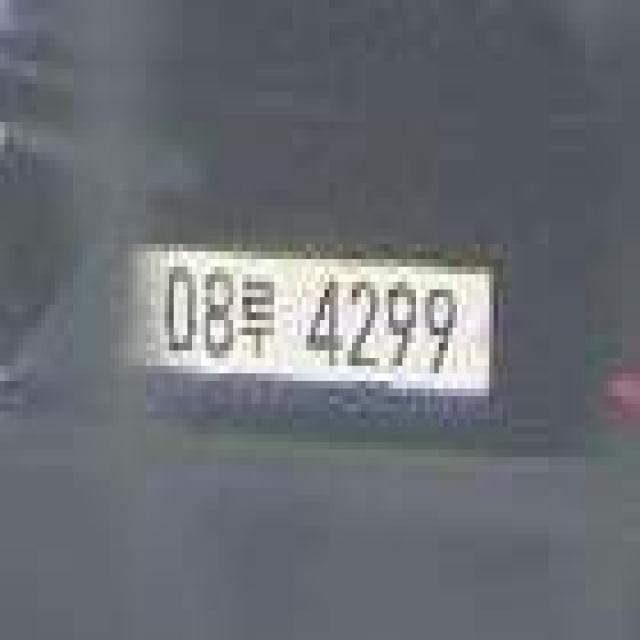illegal_plate: (120, 233, 500, 423)
